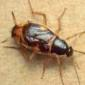cockroach: (23, 22, 73, 58)
